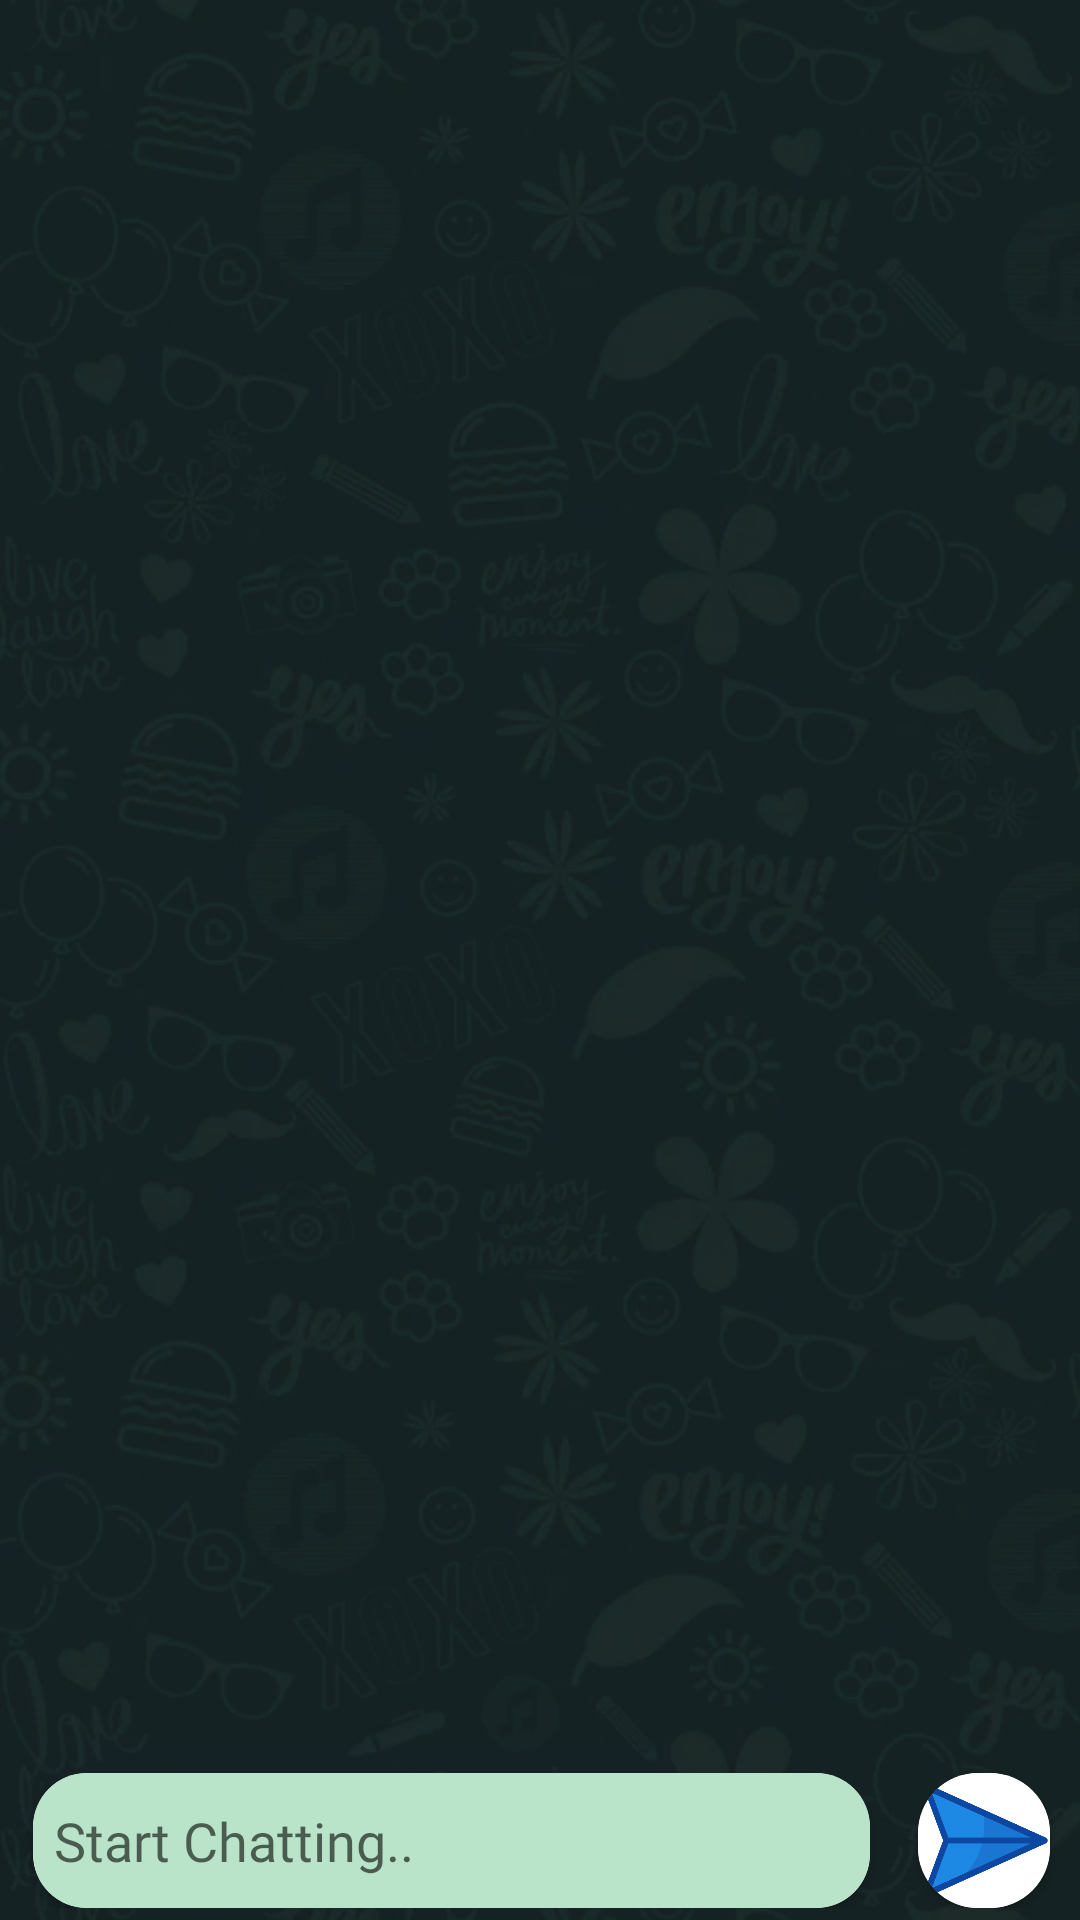

Screen size 1080×1920. Icon name, then its center in pixels as point (x, y):
sendbut: point (984, 1840)
